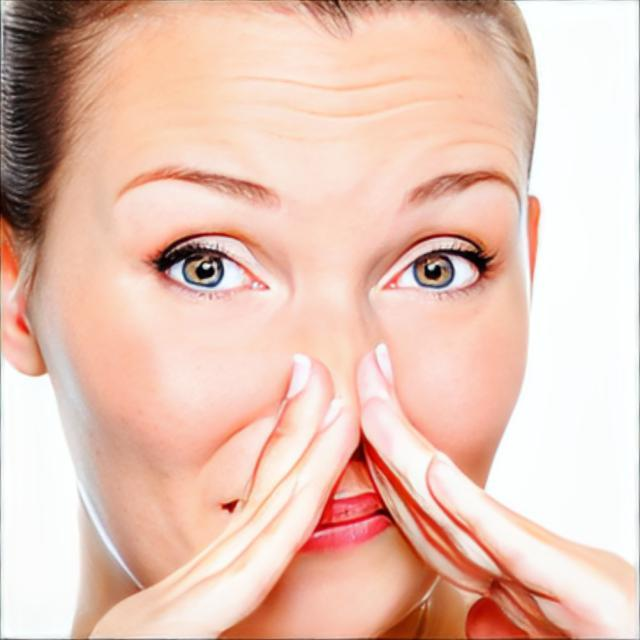disgust: (51, 0, 538, 640)
